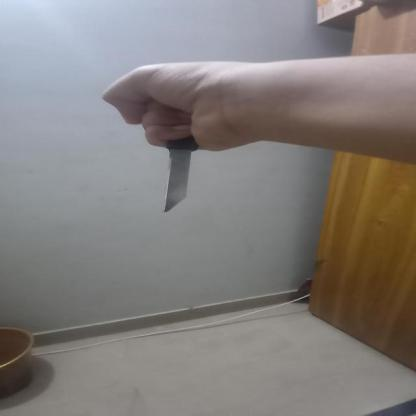Knife: (131, 89, 219, 224)
